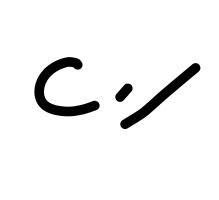t: (115, 53, 214, 136)
